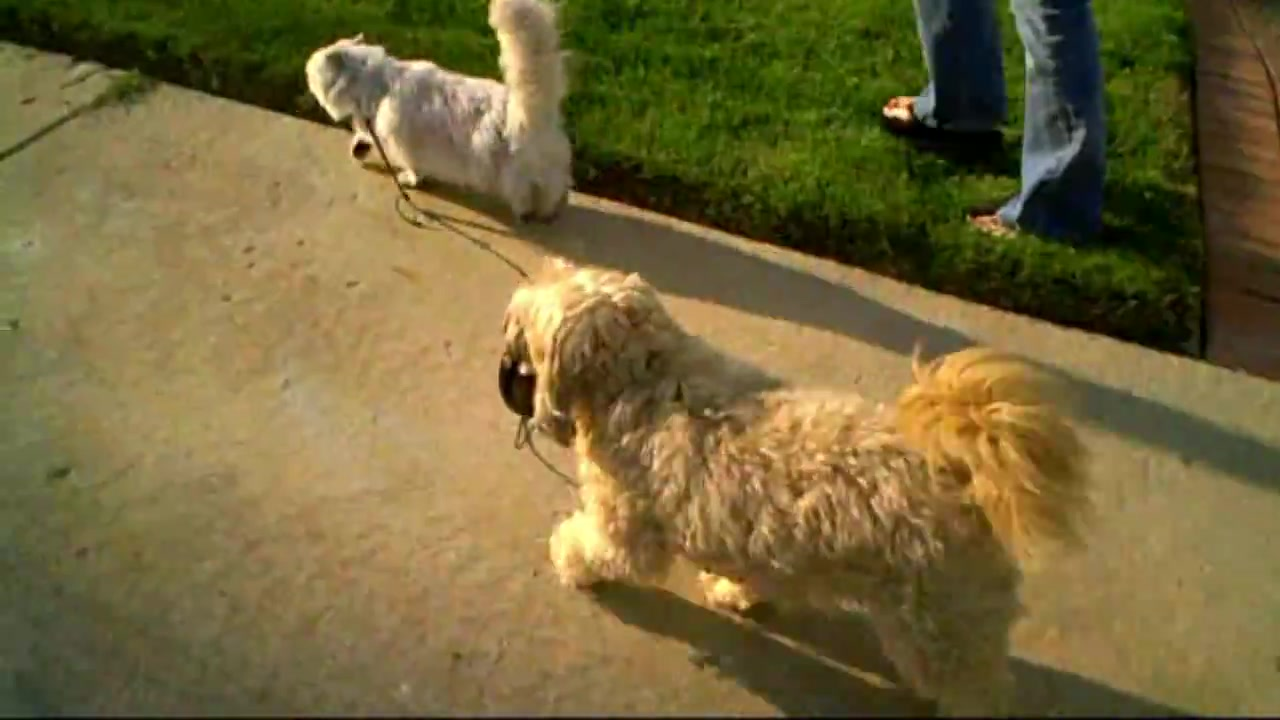dog: (499, 259, 1080, 720)
